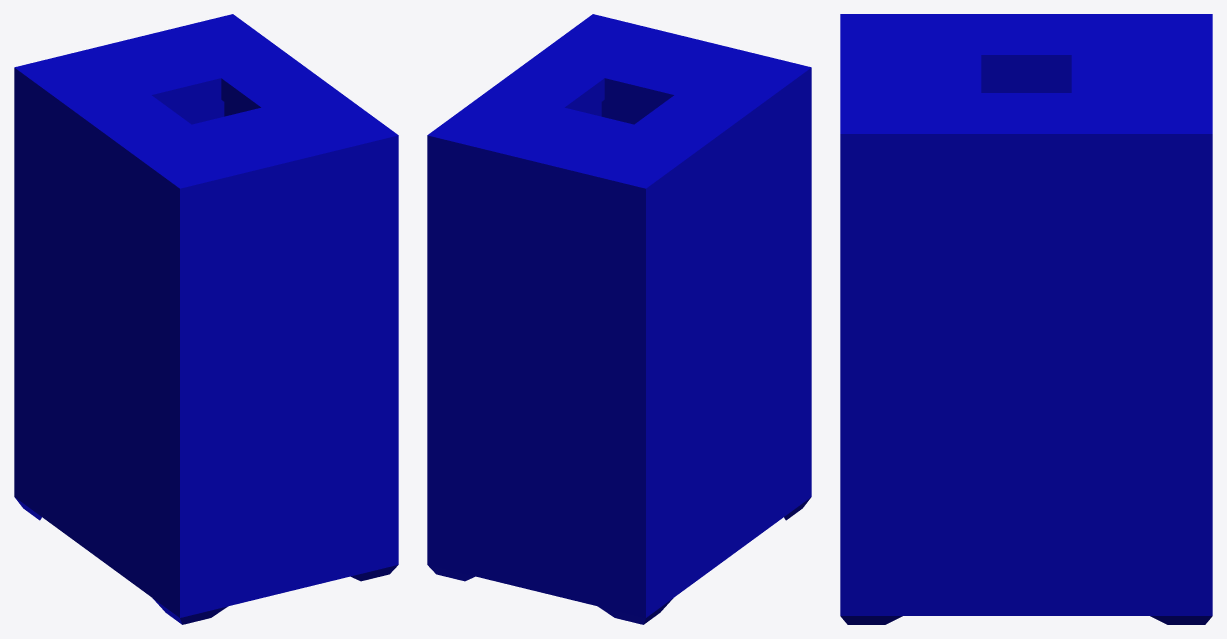
File: original-5.obj
3 renders of one model, left to right at view 1: azimuth 30°, elevation 25°; view 2: azimuth 150°, elevation 25°; view 3: azimuth 270°, elevation 25°, orthographic. The views are drawn at different scales.
Parts seen in each view (by area): view 1: #ID47; view 2: #ID47; view 3: #ID47.
Boxes of the visible parts, left/top/right/bottom form: #ID47: left=14, top=14, right=398, bottom=624; #ID47: left=427, top=14, right=811, bottom=624; #ID47: left=840, top=14, right=1212, bottom=624.
Bounding box in the file's own units: 0.5468 × 1.05 × 0.7177.
